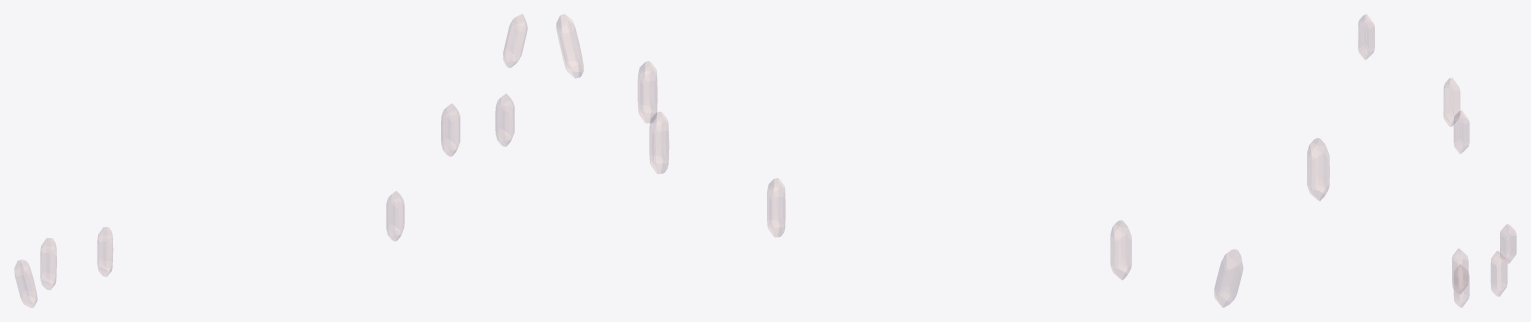
Rendered from atmosphere_crystal_lights.glb.
3 renders of one model, left to right at view 1: azimuth 30°, elevation 25°; view 2: azimuth 150°, elevation 25°; view 3: azimuth 270°, elevation 25°, orthographic. The views are drawn at different scales.
Visible parts, largest first — view 1: crystarBase.001; view 2: crystarBase.001; view 3: crystarBase.001.
Part boxes in pixels (box(x1,y1,x2,y2)): crystarBase.001: box(14, 14, 527, 307); crystarBase.001: box(556, 14, 1329, 307); crystarBase.001: box(1358, 14, 1516, 307).
Bounding box in the file's own units: 6.41 × 1.83 × 1.78.
